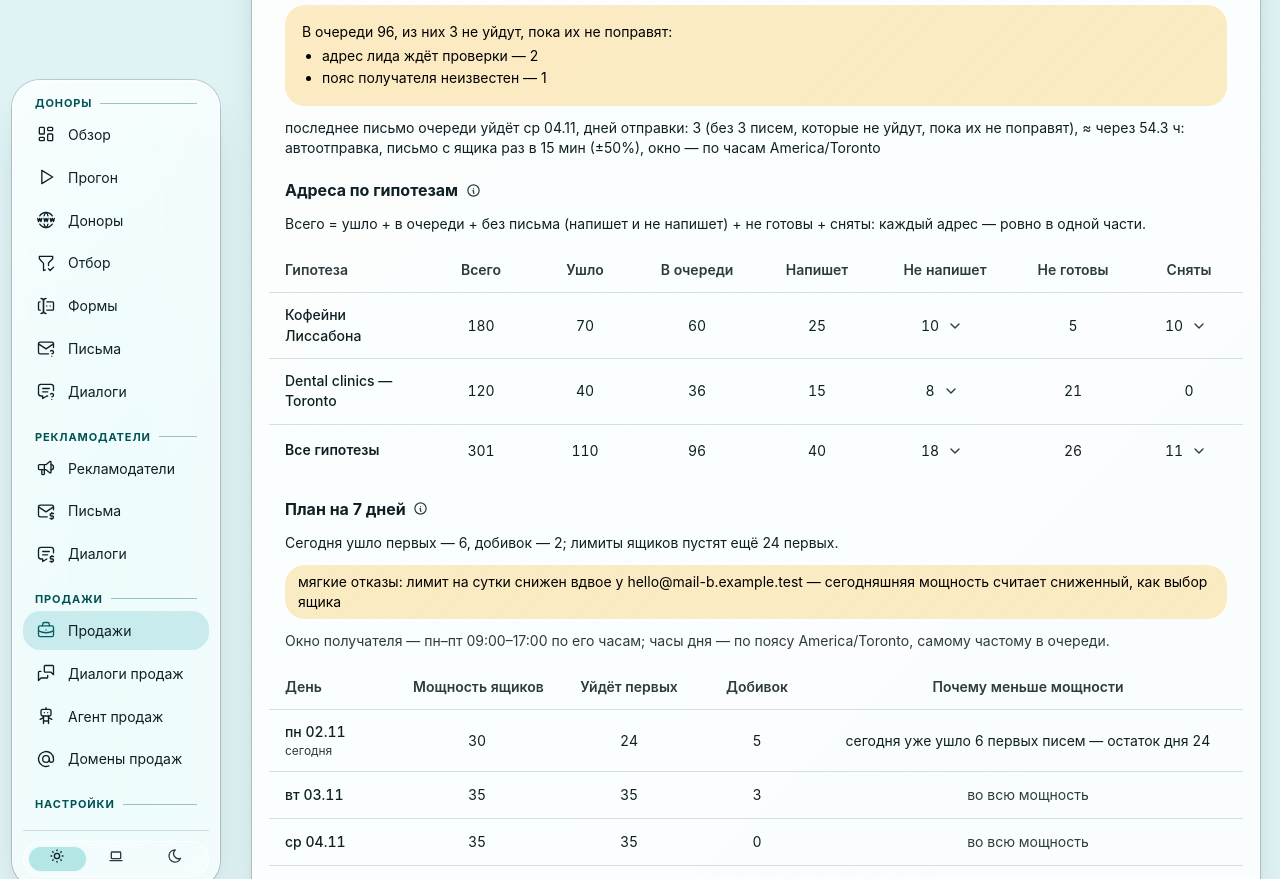
Scenario: рассылка: адреса по частям › причин больше пяти — на виду пять частых, остальные — «ещё N причин» раскрытием
The image size is (1280, 879).
(page scrolled)
Click the button named "Почему сняты: все гипотезы — 11" at (1199, 450), box x1=1185 y1=436 x2=1213 y2=464
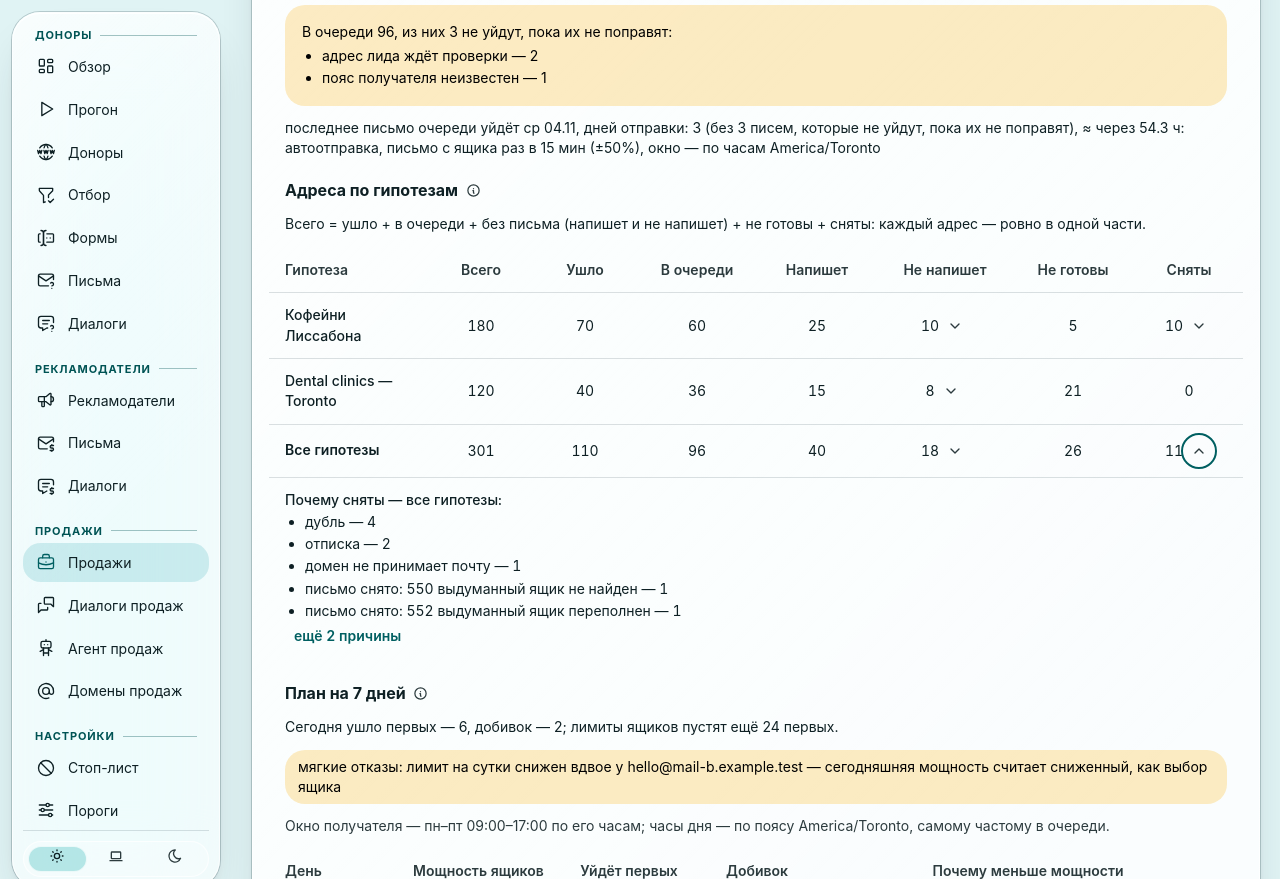
Expected: the text "письмо снято: 554 выдуманный отказ получателя — 1" is not shown
Expected: the text "дубль — 4" is shown, x1=305 y1=512 x2=376 y2=532
Expected: the text "письмо снято: 552 выдуманный ящик переполнен — 1" is shown, x1=305 y1=601 x2=682 y2=621
Click the button "ещё 2 причины" at (348, 636), box x1=285 y1=623 x2=410 y2=649
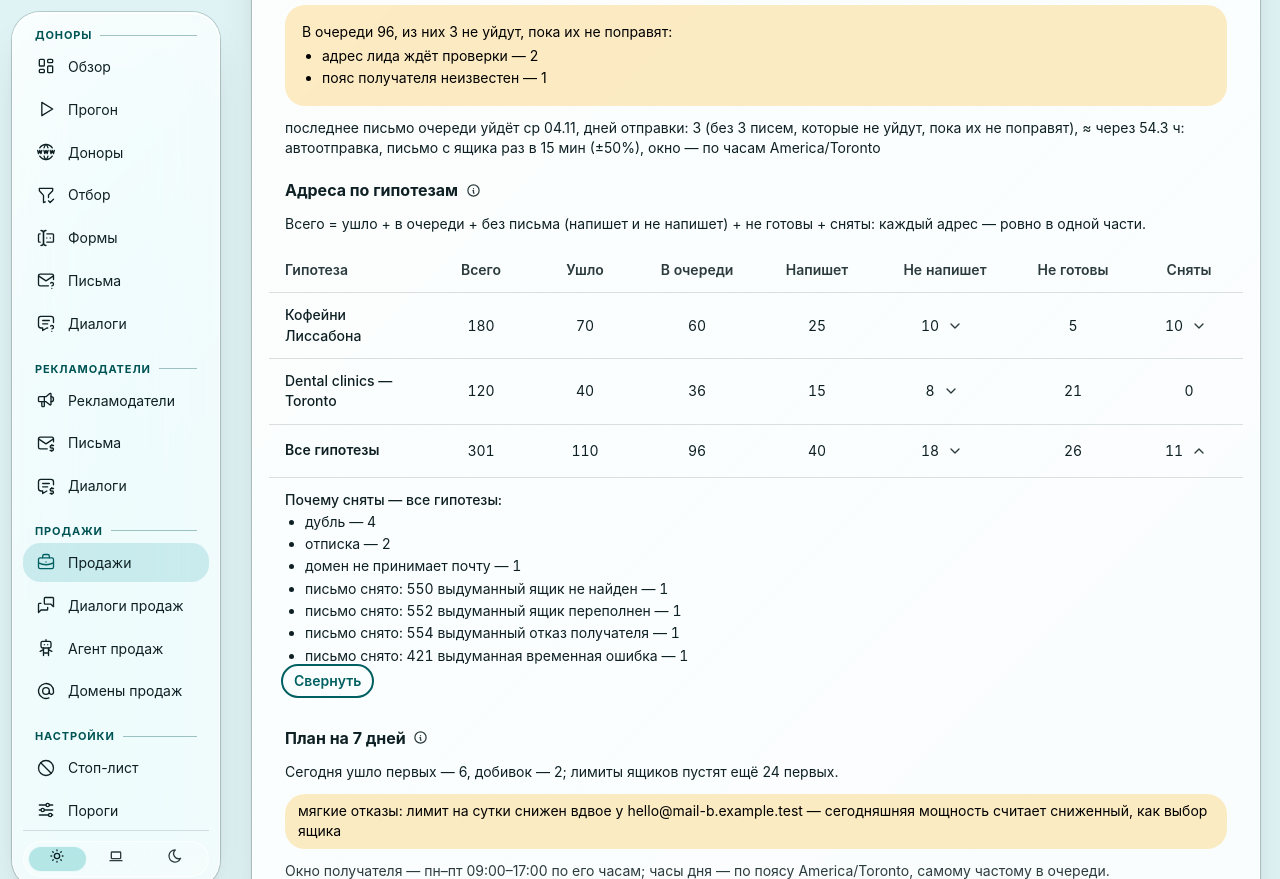
Expected: the button named "ещё 2 причины" is expanded, x1=285 y1=668 x2=370 y2=694
Expected: the button named "ещё 2 причины" reads "Свернуть", x1=285 y1=668 x2=370 y2=694
Expected: the text "письмо снято: 554 выдуманный отказ получателя — 1" is shown, x1=305 y1=623 x2=680 y2=644
